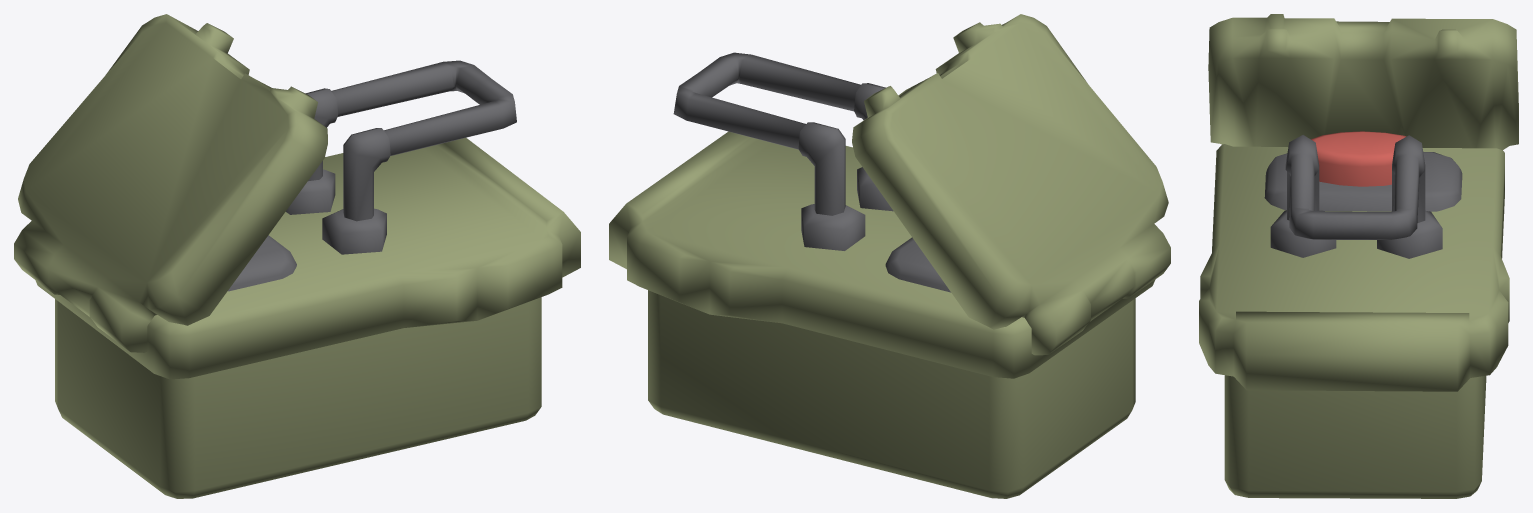
Rendered from detonator.glb.
3 views of the same model, side by side, from view 1: azimuth 30°, elevation 25°; view 2: azimuth 150°, elevation 25°; view 3: azimuth 270°, elevation 25° (orthographic).
Visible parts, largest first — view 1: detonator; view 2: detonator; view 3: detonator.
Boxes of the visible parts, x1,y1,x2,y2 form: detonator: [14, 14, 580, 498]; detonator: [609, 14, 1170, 498]; detonator: [1199, 14, 1518, 498].
Bounding box in the file's own units: 0.2212 × 0.1724 × 0.1353.
